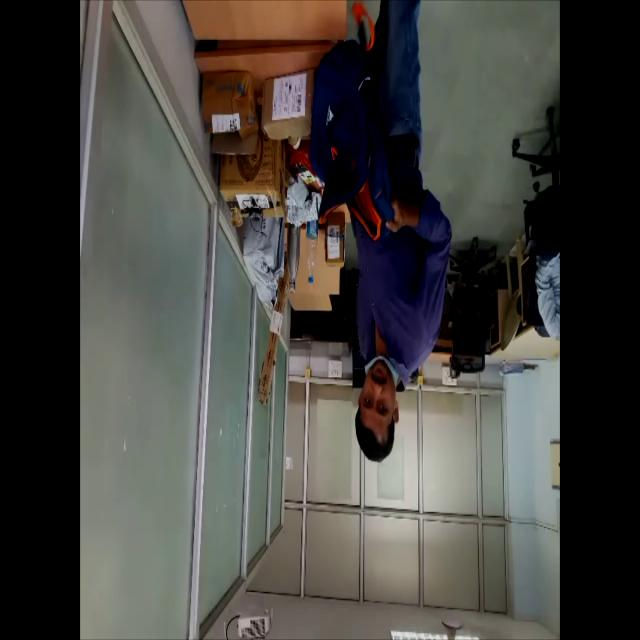shoplifting: (310, 0, 457, 466)
